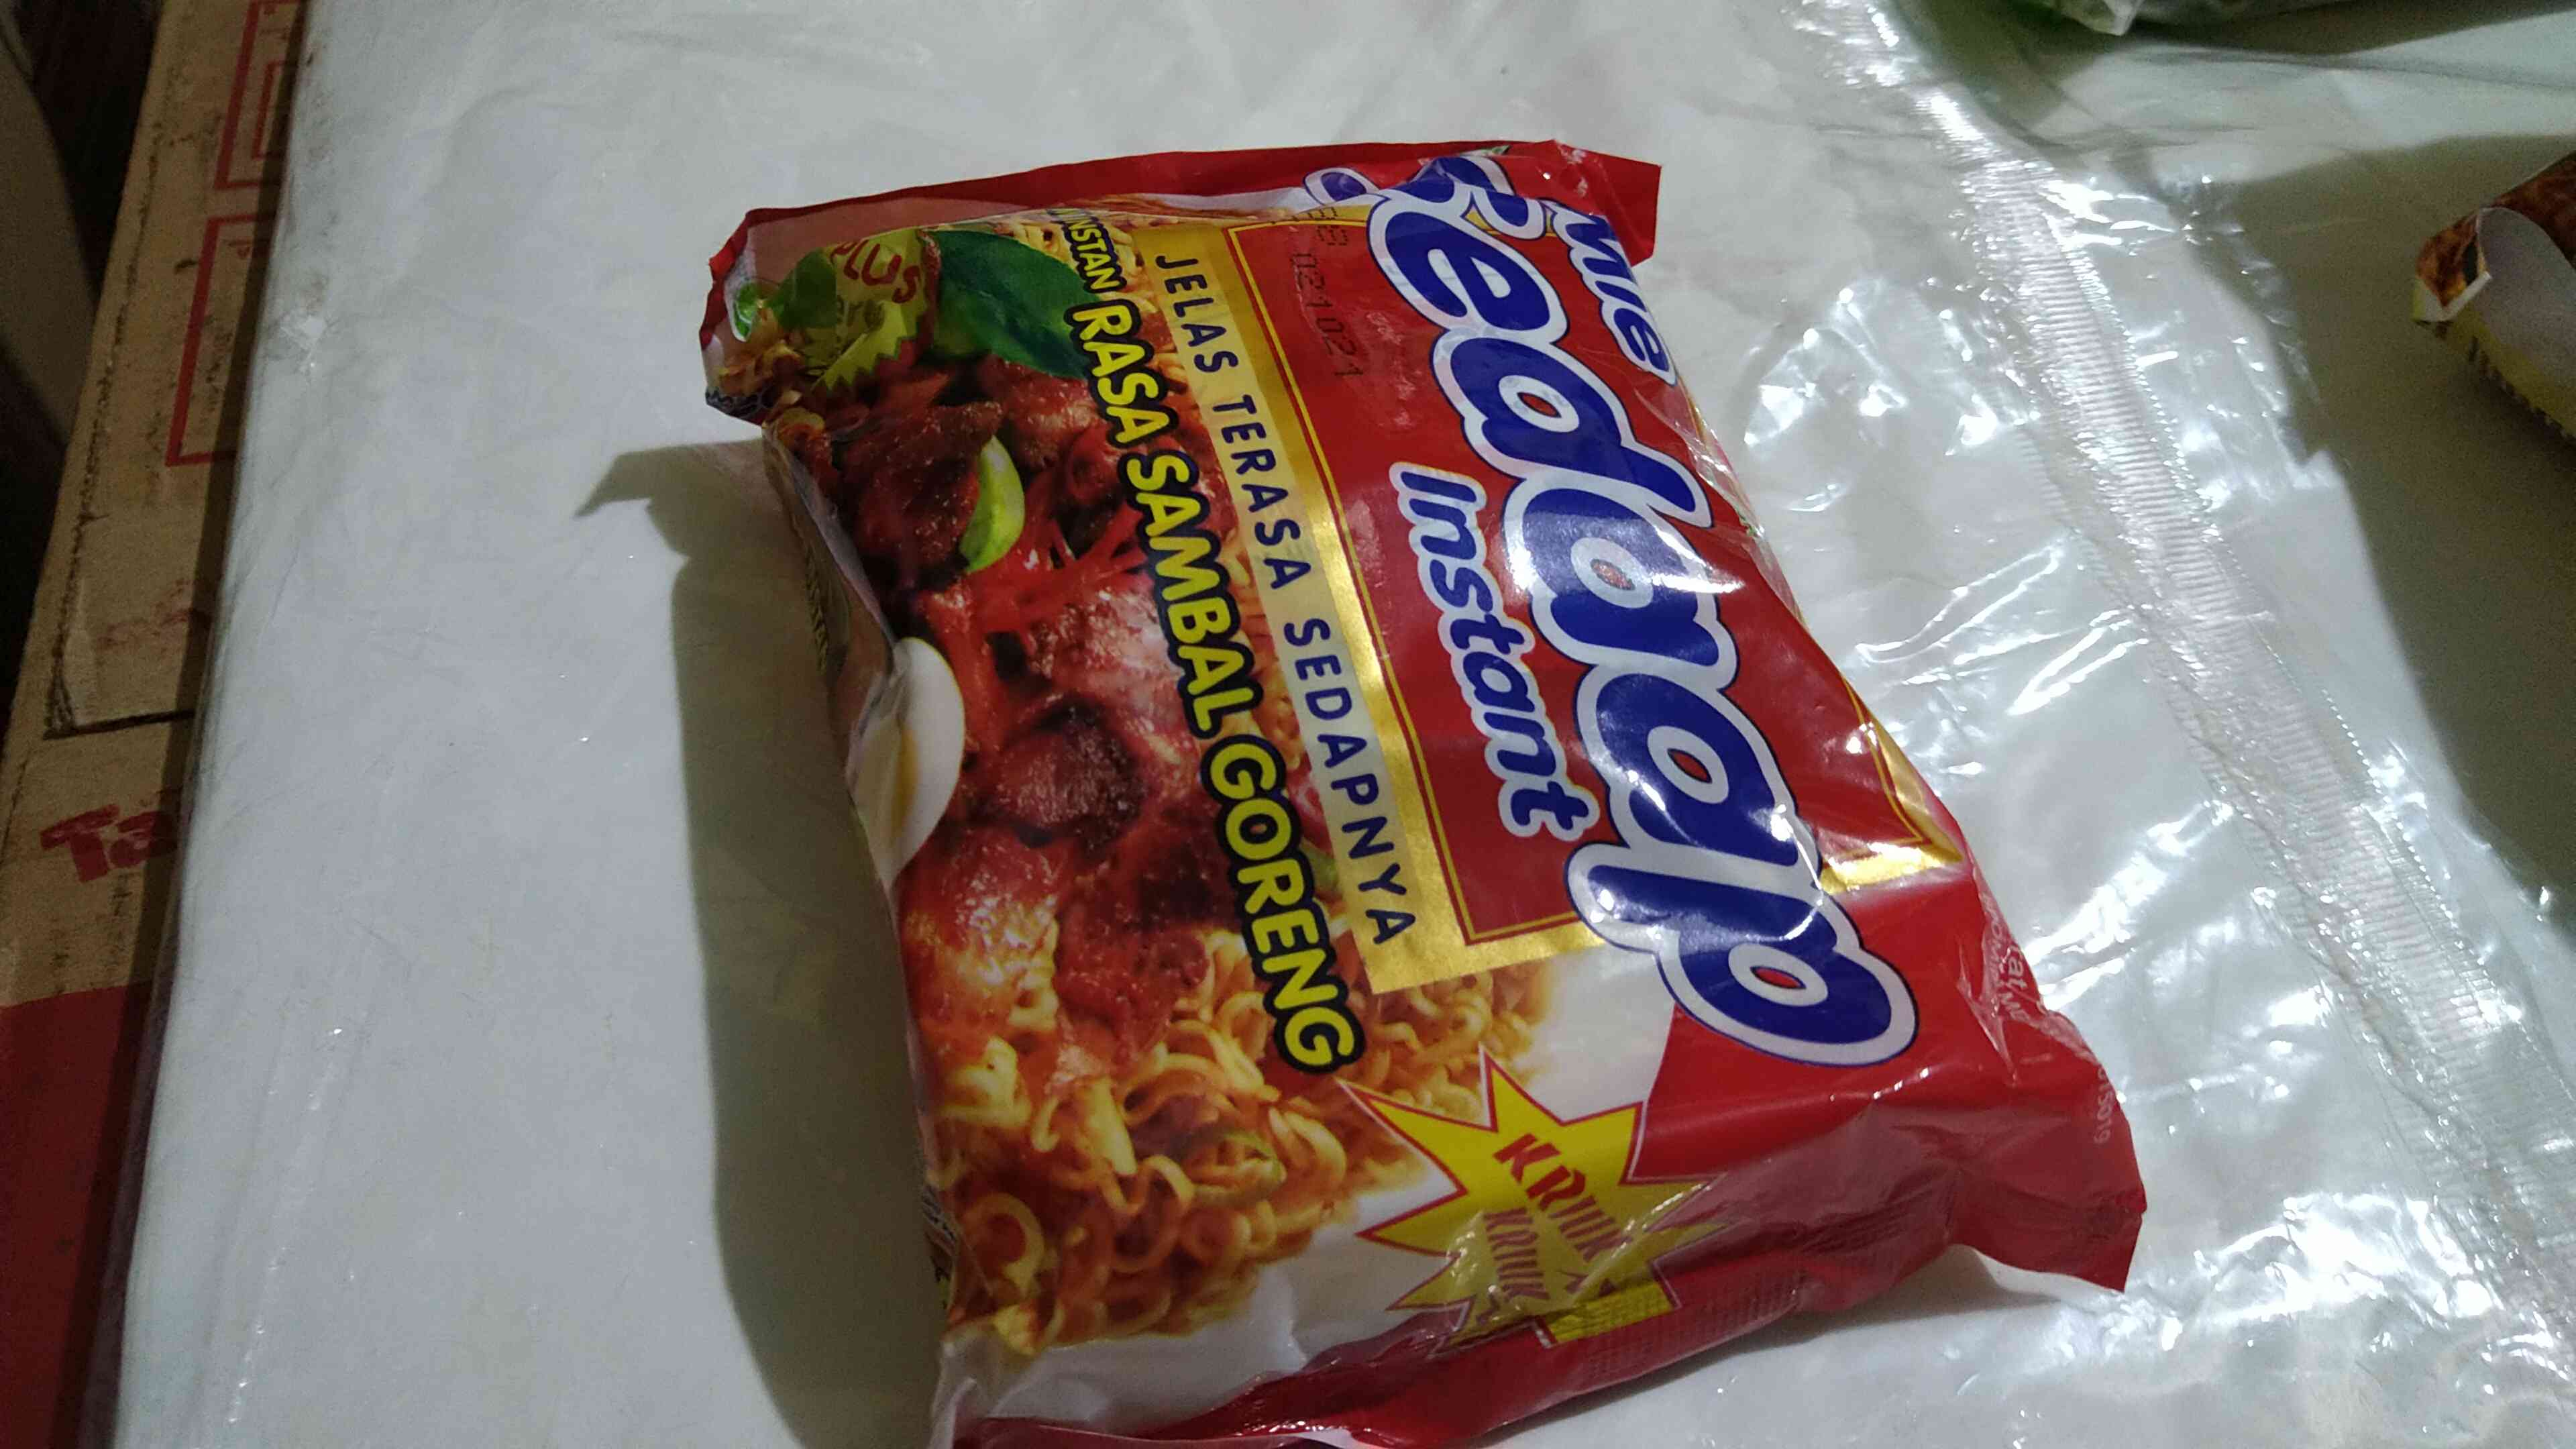sedaap sambal goreng: (686, 97, 2104, 1350)
